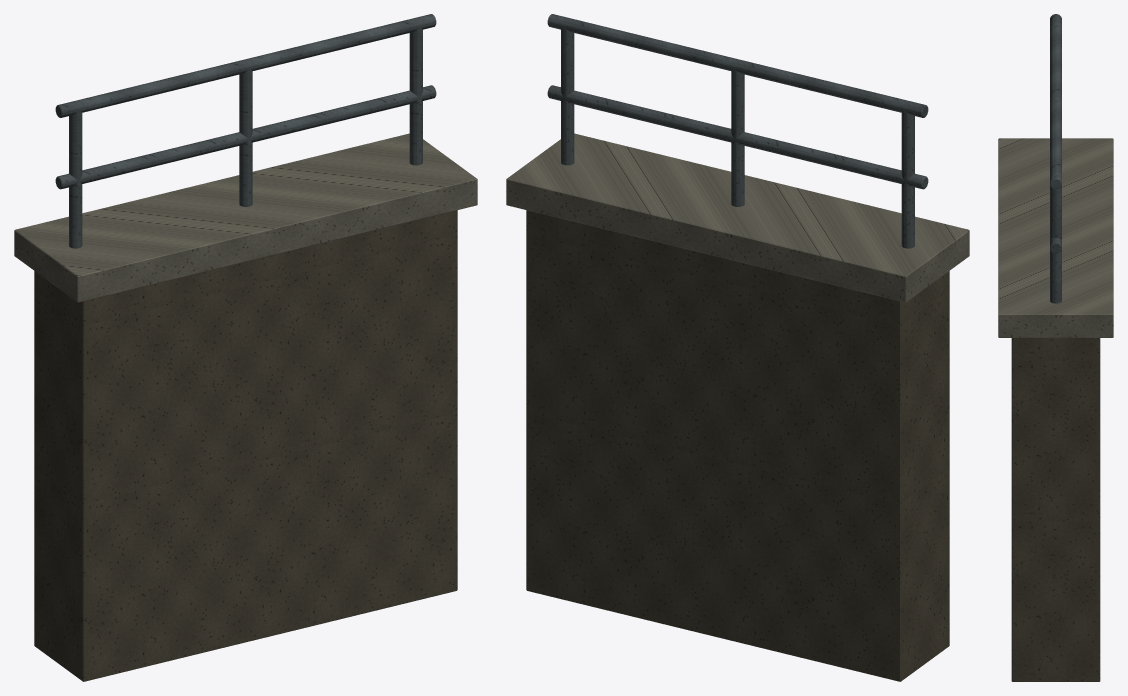
File: PROP-D584DCE55340_lod1.glb
The picture shows the model from 3 angles, left to right: view 1: azimuth 30°, elevation 25°; view 2: azimuth 150°, elevation 25°; view 3: azimuth 270°, elevation 25°; orthographic projection. The views are drawn at different scales.
Visible parts, largest first — view 1: masonry_support.002, coping.002, railing_rails.002, railing_posts.002; view 2: masonry_support.002, coping.002, railing_rails.002, railing_posts.002; view 3: masonry_support.002, coping.002, railing_rails.002, railing_posts.002.
Boxes of the visible parts, x1=… form: masonry_support.002: x1=34, y1=210, x2=457, y2=681; coping.002: x1=14, y1=133, x2=477, y2=302; railing_rails.002: x1=55, y1=14, x2=436, y2=189; railing_posts.002: x1=69, y1=28, x2=422, y2=248; masonry_support.002: x1=526, y1=210, x2=949, y2=681; coping.002: x1=506, y1=133, x2=969, y2=302; railing_rails.002: x1=547, y1=14, x2=928, y2=189; railing_posts.002: x1=561, y1=27, x2=914, y2=248; masonry_support.002: x1=1011, y1=338, x2=1100, y2=681; coping.002: x1=998, y1=138, x2=1113, y2=337; railing_rails.002: x1=1050, y1=14, x2=1061, y2=253; railing_posts.002: x1=1050, y1=185, x2=1061, y2=303.
Size of the model in its own units: 2.35 by 3.13 by 0.65.
Materials: 3 (3 with a texture image).
